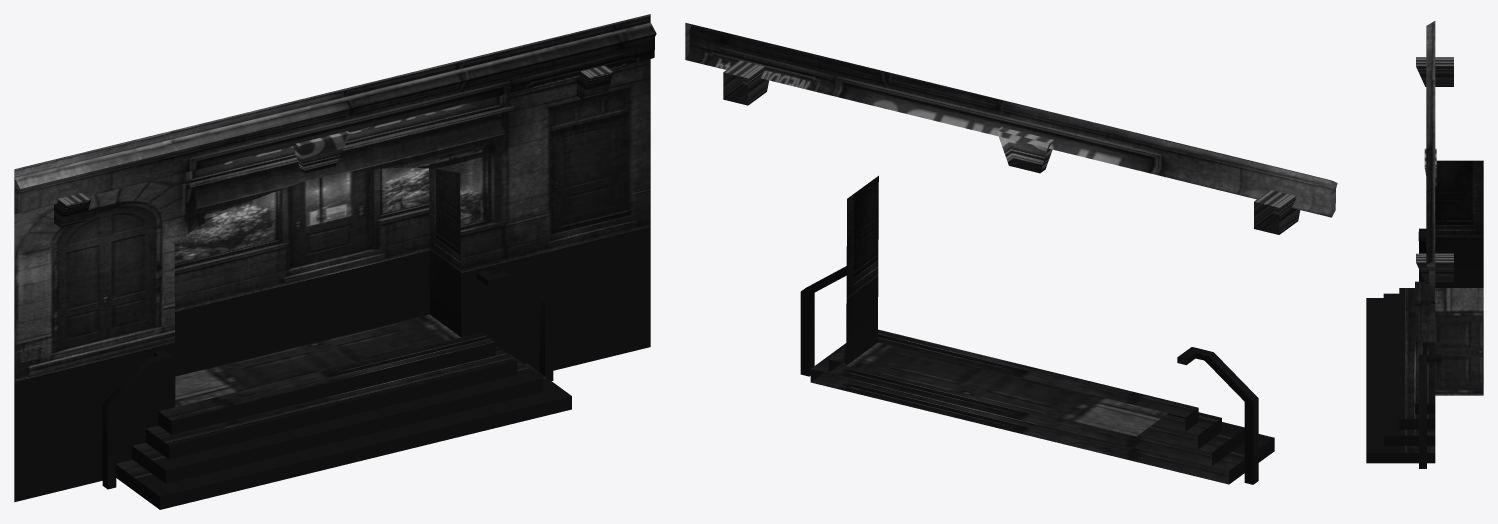
File: shop.obj
3 views of the same model, side by side, from view 1: azimuth 30°, elevation 25°; view 2: azimuth 150°, elevation 25°; view 3: azimuth 270°, elevation 25° (orthographic). The views are drawn at different scales.
Visible parts, largest first — view 1: group; view 2: group; view 3: group.
Boxes of the visible parts, x1,y1,x2,y2 form: group: (14, 14, 656, 509); group: (685, 22, 1337, 484); group: (1366, 21, 1483, 468).
Bounding box in the file's own units: 10 × 5 × 2.07.
